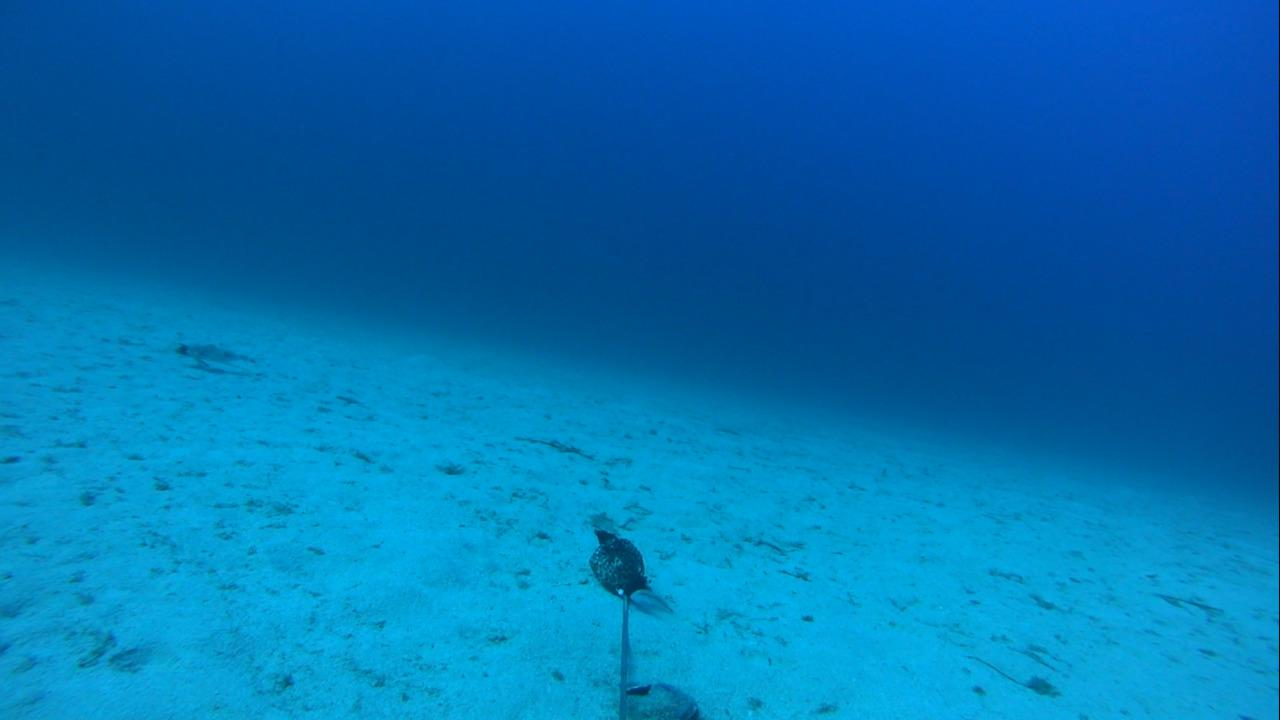dactylopterus: (164, 331, 262, 378)
raor: (627, 584, 679, 618)
